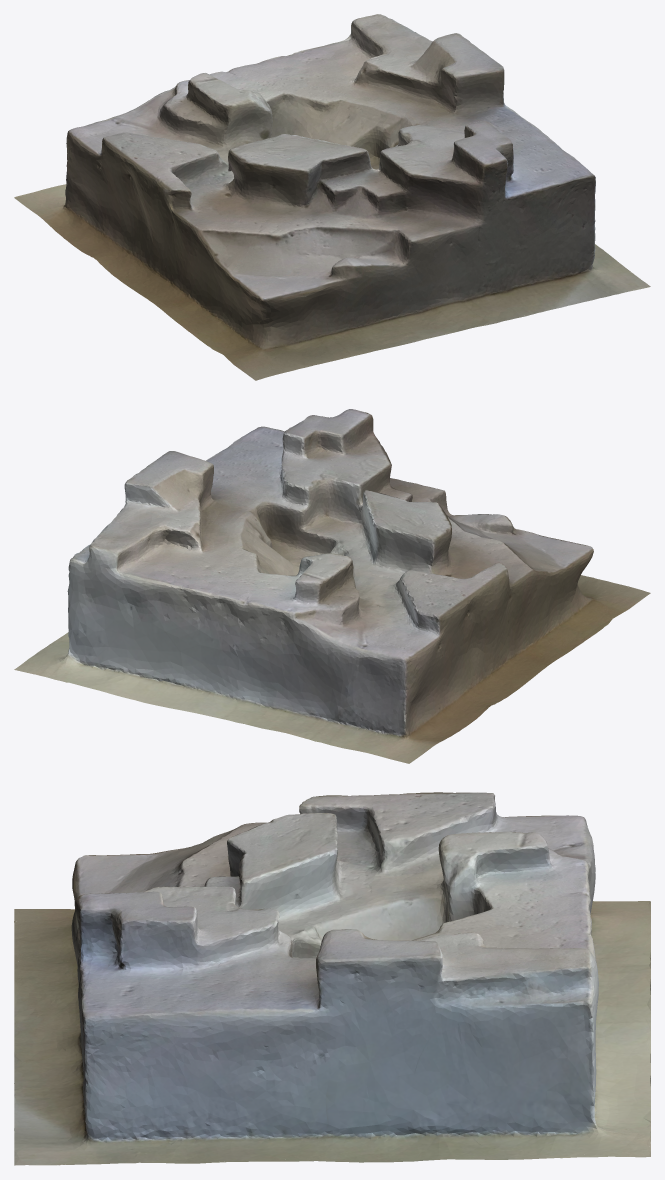
3 views of the same model, one above another, from view 1: azimuth 30°, elevation 25°; view 2: azimuth 150°, elevation 25°; view 3: azimuth 270°, elevation 25° (orthographic). The views are drawn at different scales.
Size of the model in its own units: 1.48 by 0.5155 by 1.57.
1 material, 1 textured.
